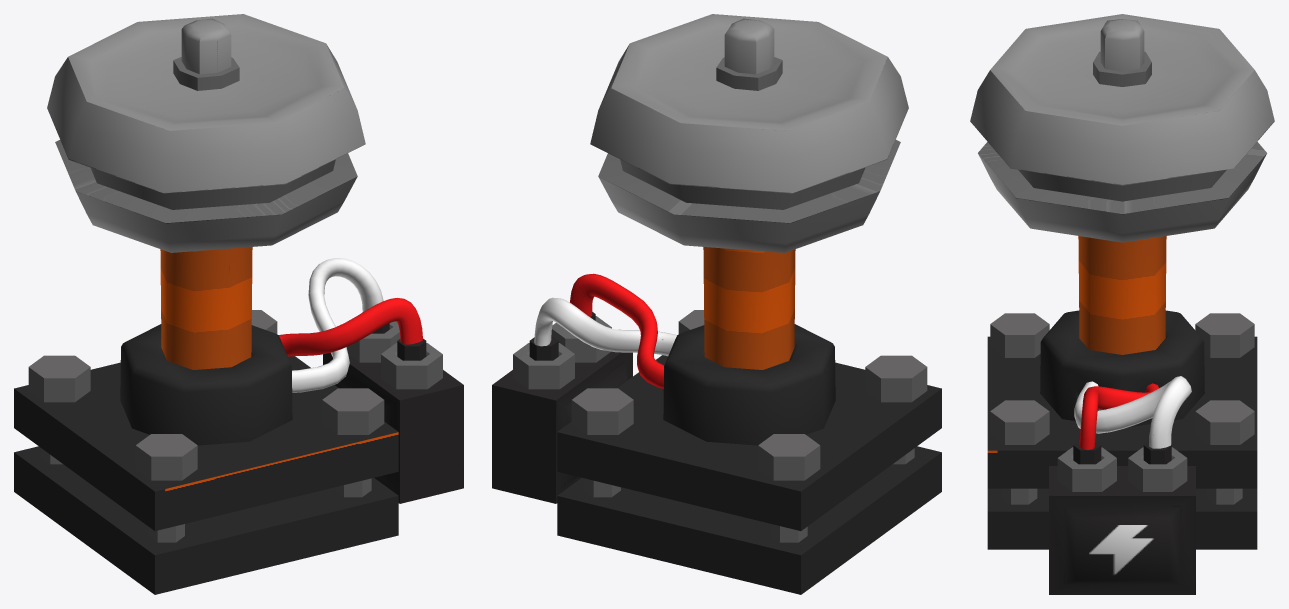
File: Bobina.fbx
3 renders of one model, left to right at view 1: azimuth 30°, elevation 25°; view 2: azimuth 150°, elevation 25°; view 3: azimuth 270°, elevation 25°, orthographic. The views are drawn at different scales.
Visible parts, largest first — view 1: Bobina; view 2: Bobina; view 3: Bobina.
Part boxes in pixels (left/top/right/bottom): Bobina: left=14, top=14, right=463, bottom=594; Bobina: left=492, top=14, right=941, bottom=594; Bobina: left=970, top=14, right=1274, bottom=594.
Bounding box in the file's own units: 150 × 191 × 113.
